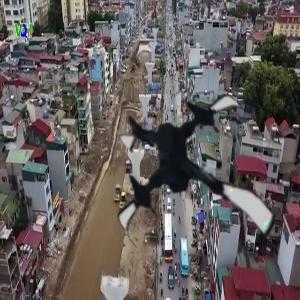drone: (100, 85, 290, 275)
